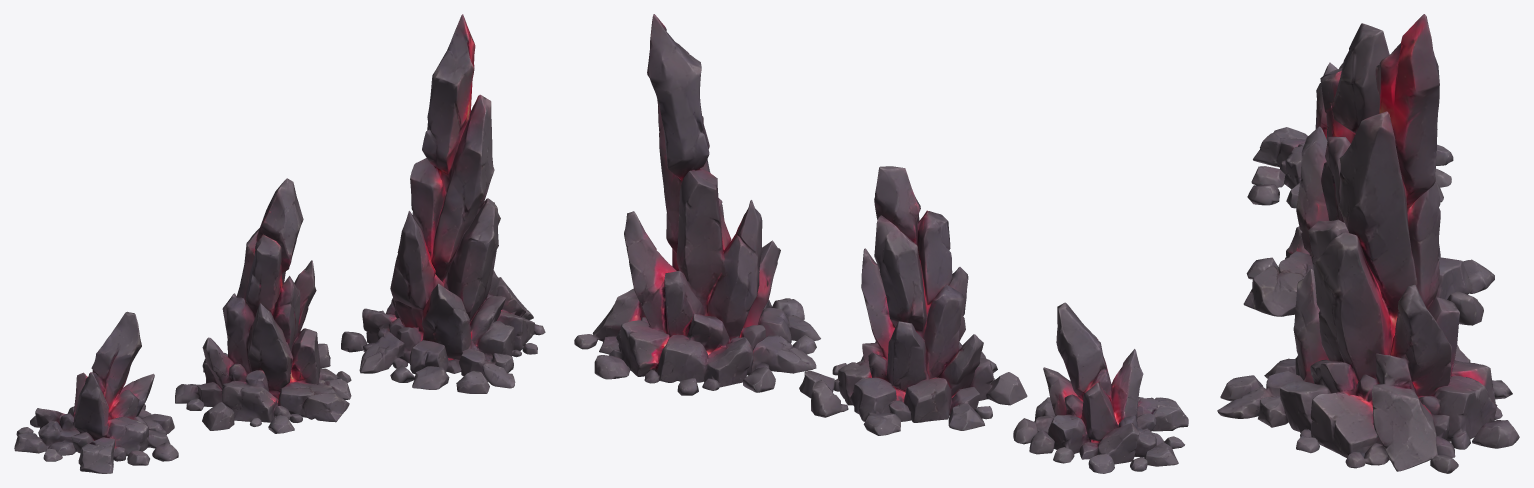
The model's file is stone_spike.glb.
3 views of the same model, side by side, from view 1: azimuth 30°, elevation 25°; view 2: azimuth 150°, elevation 25°; view 3: azimuth 270°, elevation 25° (orthographic). The views are drawn at different scales.
Visible parts, largest first — view 1: tripo_node_b6c525f2-9900-40fc-a354-e2f7df0da08d; view 2: tripo_node_b6c525f2-9900-40fc-a354-e2f7df0da08d; view 3: tripo_node_b6c525f2-9900-40fc-a354-e2f7df0da08d.
Boxes of the visible parts, x1=… form: tripo_node_b6c525f2-9900-40fc-a354-e2f7df0da08d: x1=14, y1=14, x2=545, y2=473; tripo_node_b6c525f2-9900-40fc-a354-e2f7df0da08d: x1=574, y1=14, x2=1188, y2=473; tripo_node_b6c525f2-9900-40fc-a354-e2f7df0da08d: x1=1217, y1=14, x2=1519, y2=473.
Size of the model in its own units: 1 by 0.5632 by 0.3691.
1 material, 1 textured.
